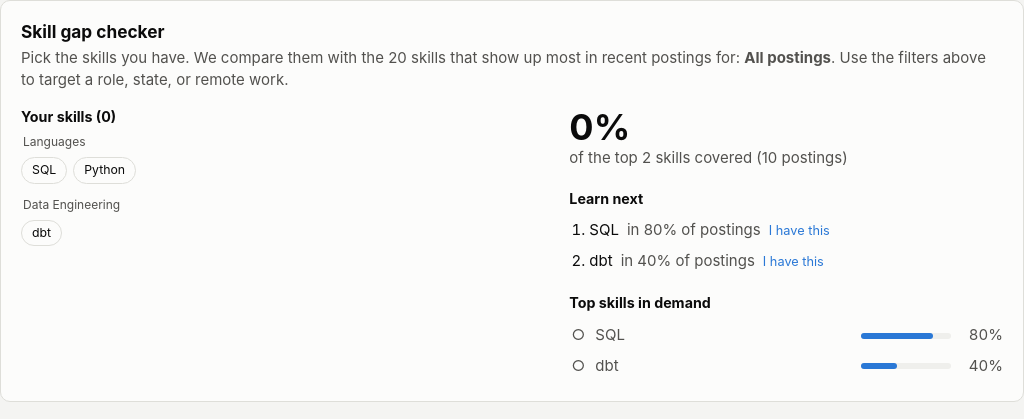
SkillGap › shows missing skills and updates when a skill is selected
Expected: the text "0%" is shown, 569,105 -> 630,149
Expected: the list named "Skills to learn next" shows "SQL", 589,220 -> 619,240
Click the button "SQL" at (44, 171), box 21,157 -> 67,184
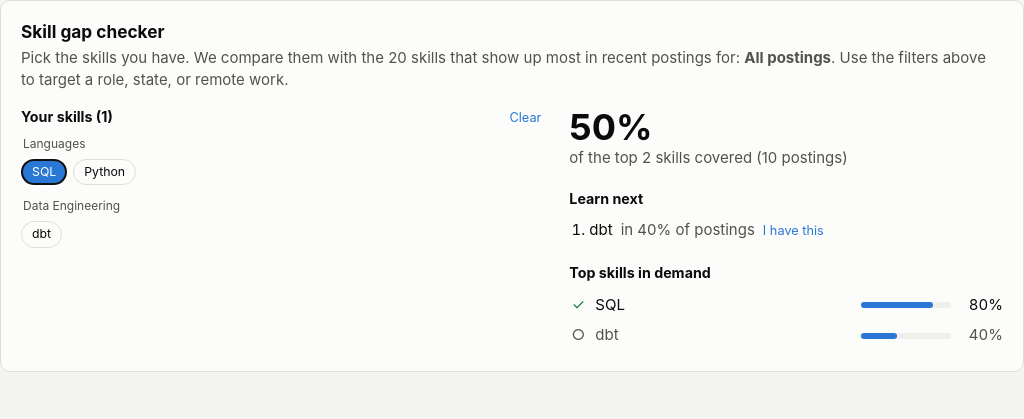
Expected: the list named "Skills to learn next" does not show "SQL", 589,220 -> 824,241
Expected: the text "50%" is shown, 569,105 -> 653,149
